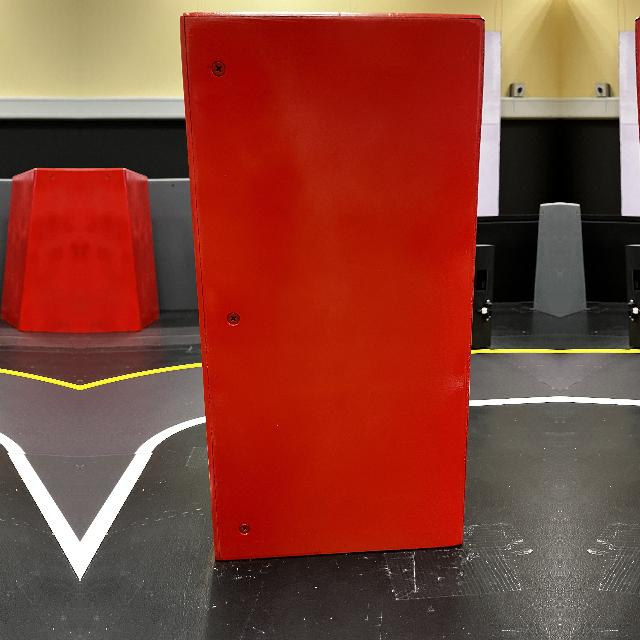obstacle: (176, 13, 488, 559), (631, 13, 640, 559)
